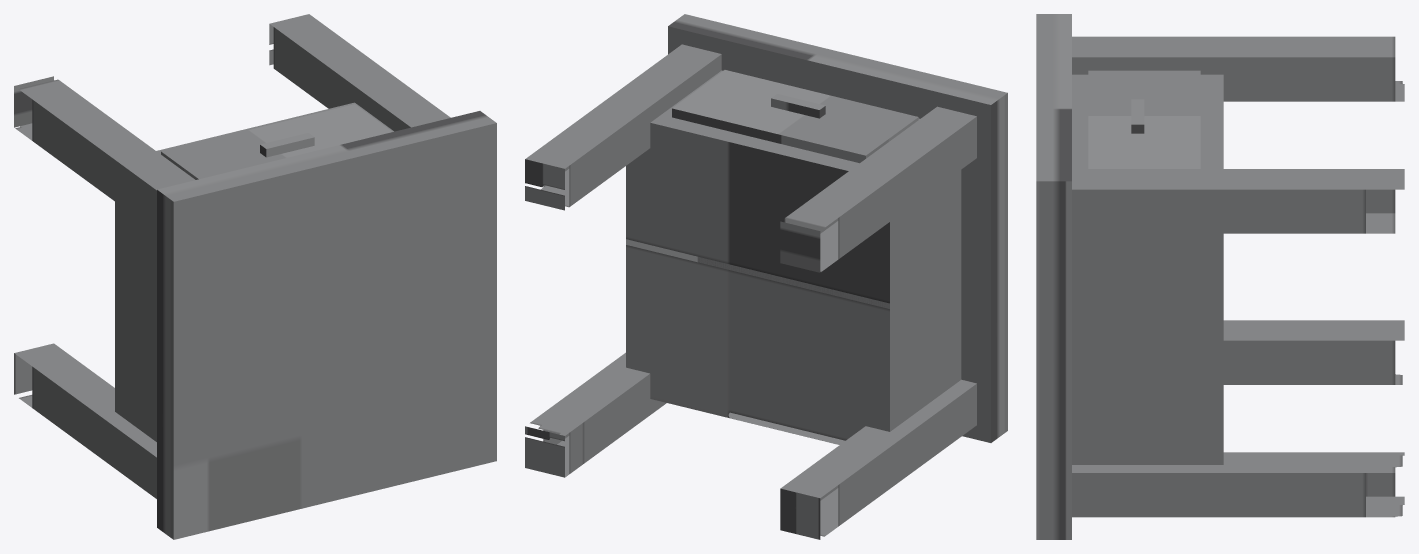
3 renders of one model, left to right at view 1: azimuth 30°, elevation 25°; view 2: azimuth 150°, elevation 25°; view 3: azimuth 270°, elevation 25°, orthographic. The views are drawn at different scales.
Bounding box in the file's own units: 0.6 × 0.6 × 0.5585.
